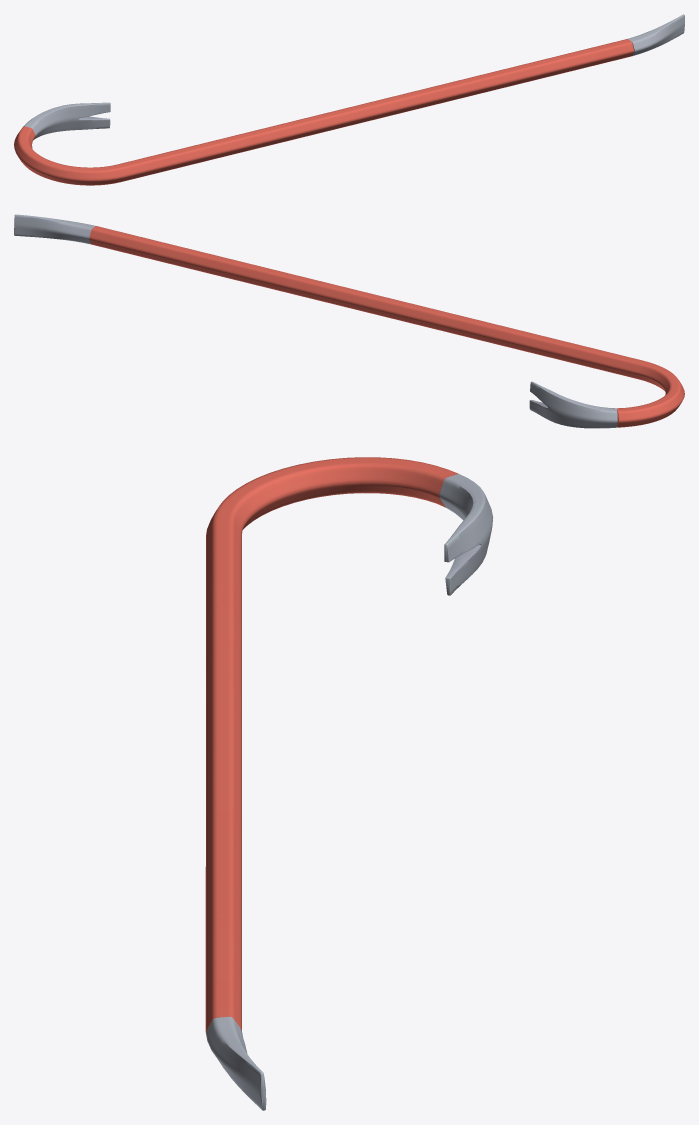
The model's file is crowbar-lever.glb.
3 views of the same model, one above another, from view 1: azimuth 30°, elevation 25°; view 2: azimuth 150°, elevation 25°; view 3: azimuth 270°, elevation 25° (orthographic). The views are drawn at different scales.
Visible parts, largest first — view 1: crowbar_body; view 2: crowbar_body; view 3: crowbar_body.
Boxes of the visible parts, left/top/right/bottom form: crowbar_body: left=14, top=14, right=684, bottom=185; crowbar_body: left=14, top=214, right=684, bottom=428; crowbar_body: left=205, top=457, right=493, bottom=1110.
Bounding box in the file's own units: 0.7567 × 0.0297 × 0.1475.
1 material, 1 textured.
